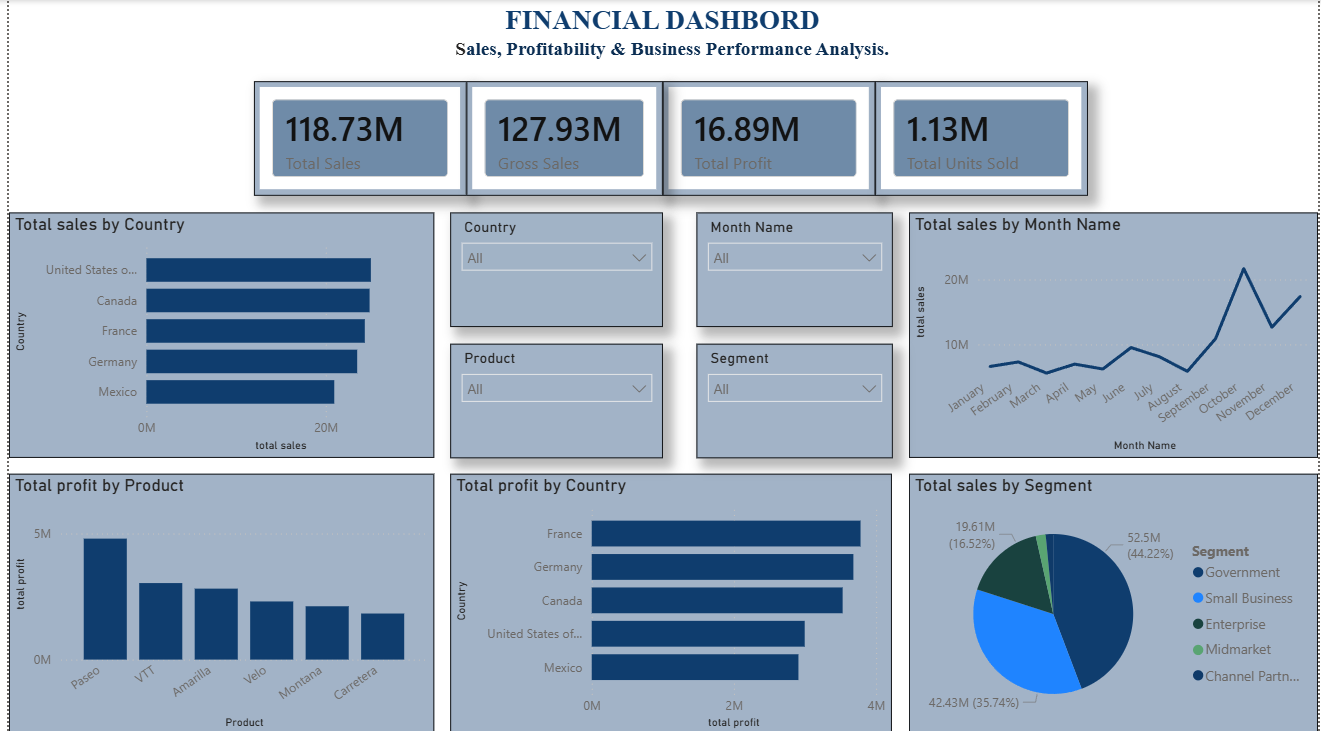

Layout of this report page (visuals, bound fields, positions):
{"tool":"powerbi","page":{"name":"Page 1","canvas":[1280,720],"ordinal":0},"visuals":[{"type":"cardVisual","fields":{"Data":["financials.total sales"]},"box":[240,80,208,112],"z":0},{"type":"cardVisual","fields":{"Data":["financials.total profit"]},"box":[640,80,208,112],"z":1000},{"type":"cardVisual","fields":{"Data":["financials.total units sold"]},"box":[848,80,208,112],"z":2000},{"type":"cardVisual","fields":{"Data":["financials.grosssales"]},"box":[448,80,192,112],"z":3000},{"type":"clusteredBarChart","title":"Total sales by Country","fields":{"Category":["financials.Country"],"Y":["financials.total sales"]},"box":[0,208,416,240],"z":4000},{"type":"clusteredColumnChart","title":"Total profit by Product","fields":{"Category":["financials.Product"],"Y":["financials.total profit"]},"box":[0,464,416,256],"z":5000},{"type":"lineChart","title":"Total sales by Month Name","fields":{"Category":["financials.Month Name"],"Y":["financials.total sales"]},"box":[880,208,400,240],"z":6000},{"type":"barChart","title":"Total profit by Country","fields":{"Category":["financials.Country"],"Y":["financials.total profit"]},"box":[432,464,432,256],"z":7000},{"type":"slicer","fields":{"Values":["financials.Country"]},"box":[432,208,208,112],"z":8000},{"type":"slicer","fields":{"Values":["financials.Product"]},"box":[432,336,208,112],"z":9000},{"type":"slicer","fields":{"Values":["financials.Segment"]},"box":[672,336,192,112],"z":10000},{"type":"slicer","fields":{"Values":["financials.Month Name"]},"box":[672,208,192,112],"z":11000},{"type":"pieChart","title":"Total sales by Segment","fields":{"Category":["financials.Segment"],"Y":["financials.total sales"]},"box":[880,464,400,256],"z":12000},{"type":"textbox","box":[480,0,336,48],"z":13000},{"type":"textbox","box":[432,32,448,32],"z":14000}]}

Visuals, with their boxes in screenshot pixels (x1, y1, x2, y2), scaled from the page's 1280x720 canvas onto the 1321x731 screenshot:
cardVisual - financials.total sales: (248, 81, 462, 195)
cardVisual - financials.total profit: (660, 81, 875, 195)
cardVisual - financials.total units sold: (875, 81, 1090, 195)
cardVisual - financials.grosssales: (462, 81, 660, 195)
"Total sales by Country" clusteredBarChart: (0, 211, 429, 455)
"Total profit by Product" clusteredColumnChart: (0, 471, 429, 730)
"Total sales by Month Name" lineChart: (908, 211, 1320, 455)
"Total profit by Country" barChart: (446, 471, 892, 730)
slicer - financials.Country: (446, 211, 660, 325)
slicer - financials.Product: (446, 341, 660, 455)
slicer - financials.Segment: (694, 341, 892, 455)
slicer - financials.Month Name: (694, 211, 892, 325)
"Total sales by Segment" pieChart: (908, 471, 1320, 730)
textbox: (495, 0, 842, 49)
textbox: (446, 32, 908, 65)
